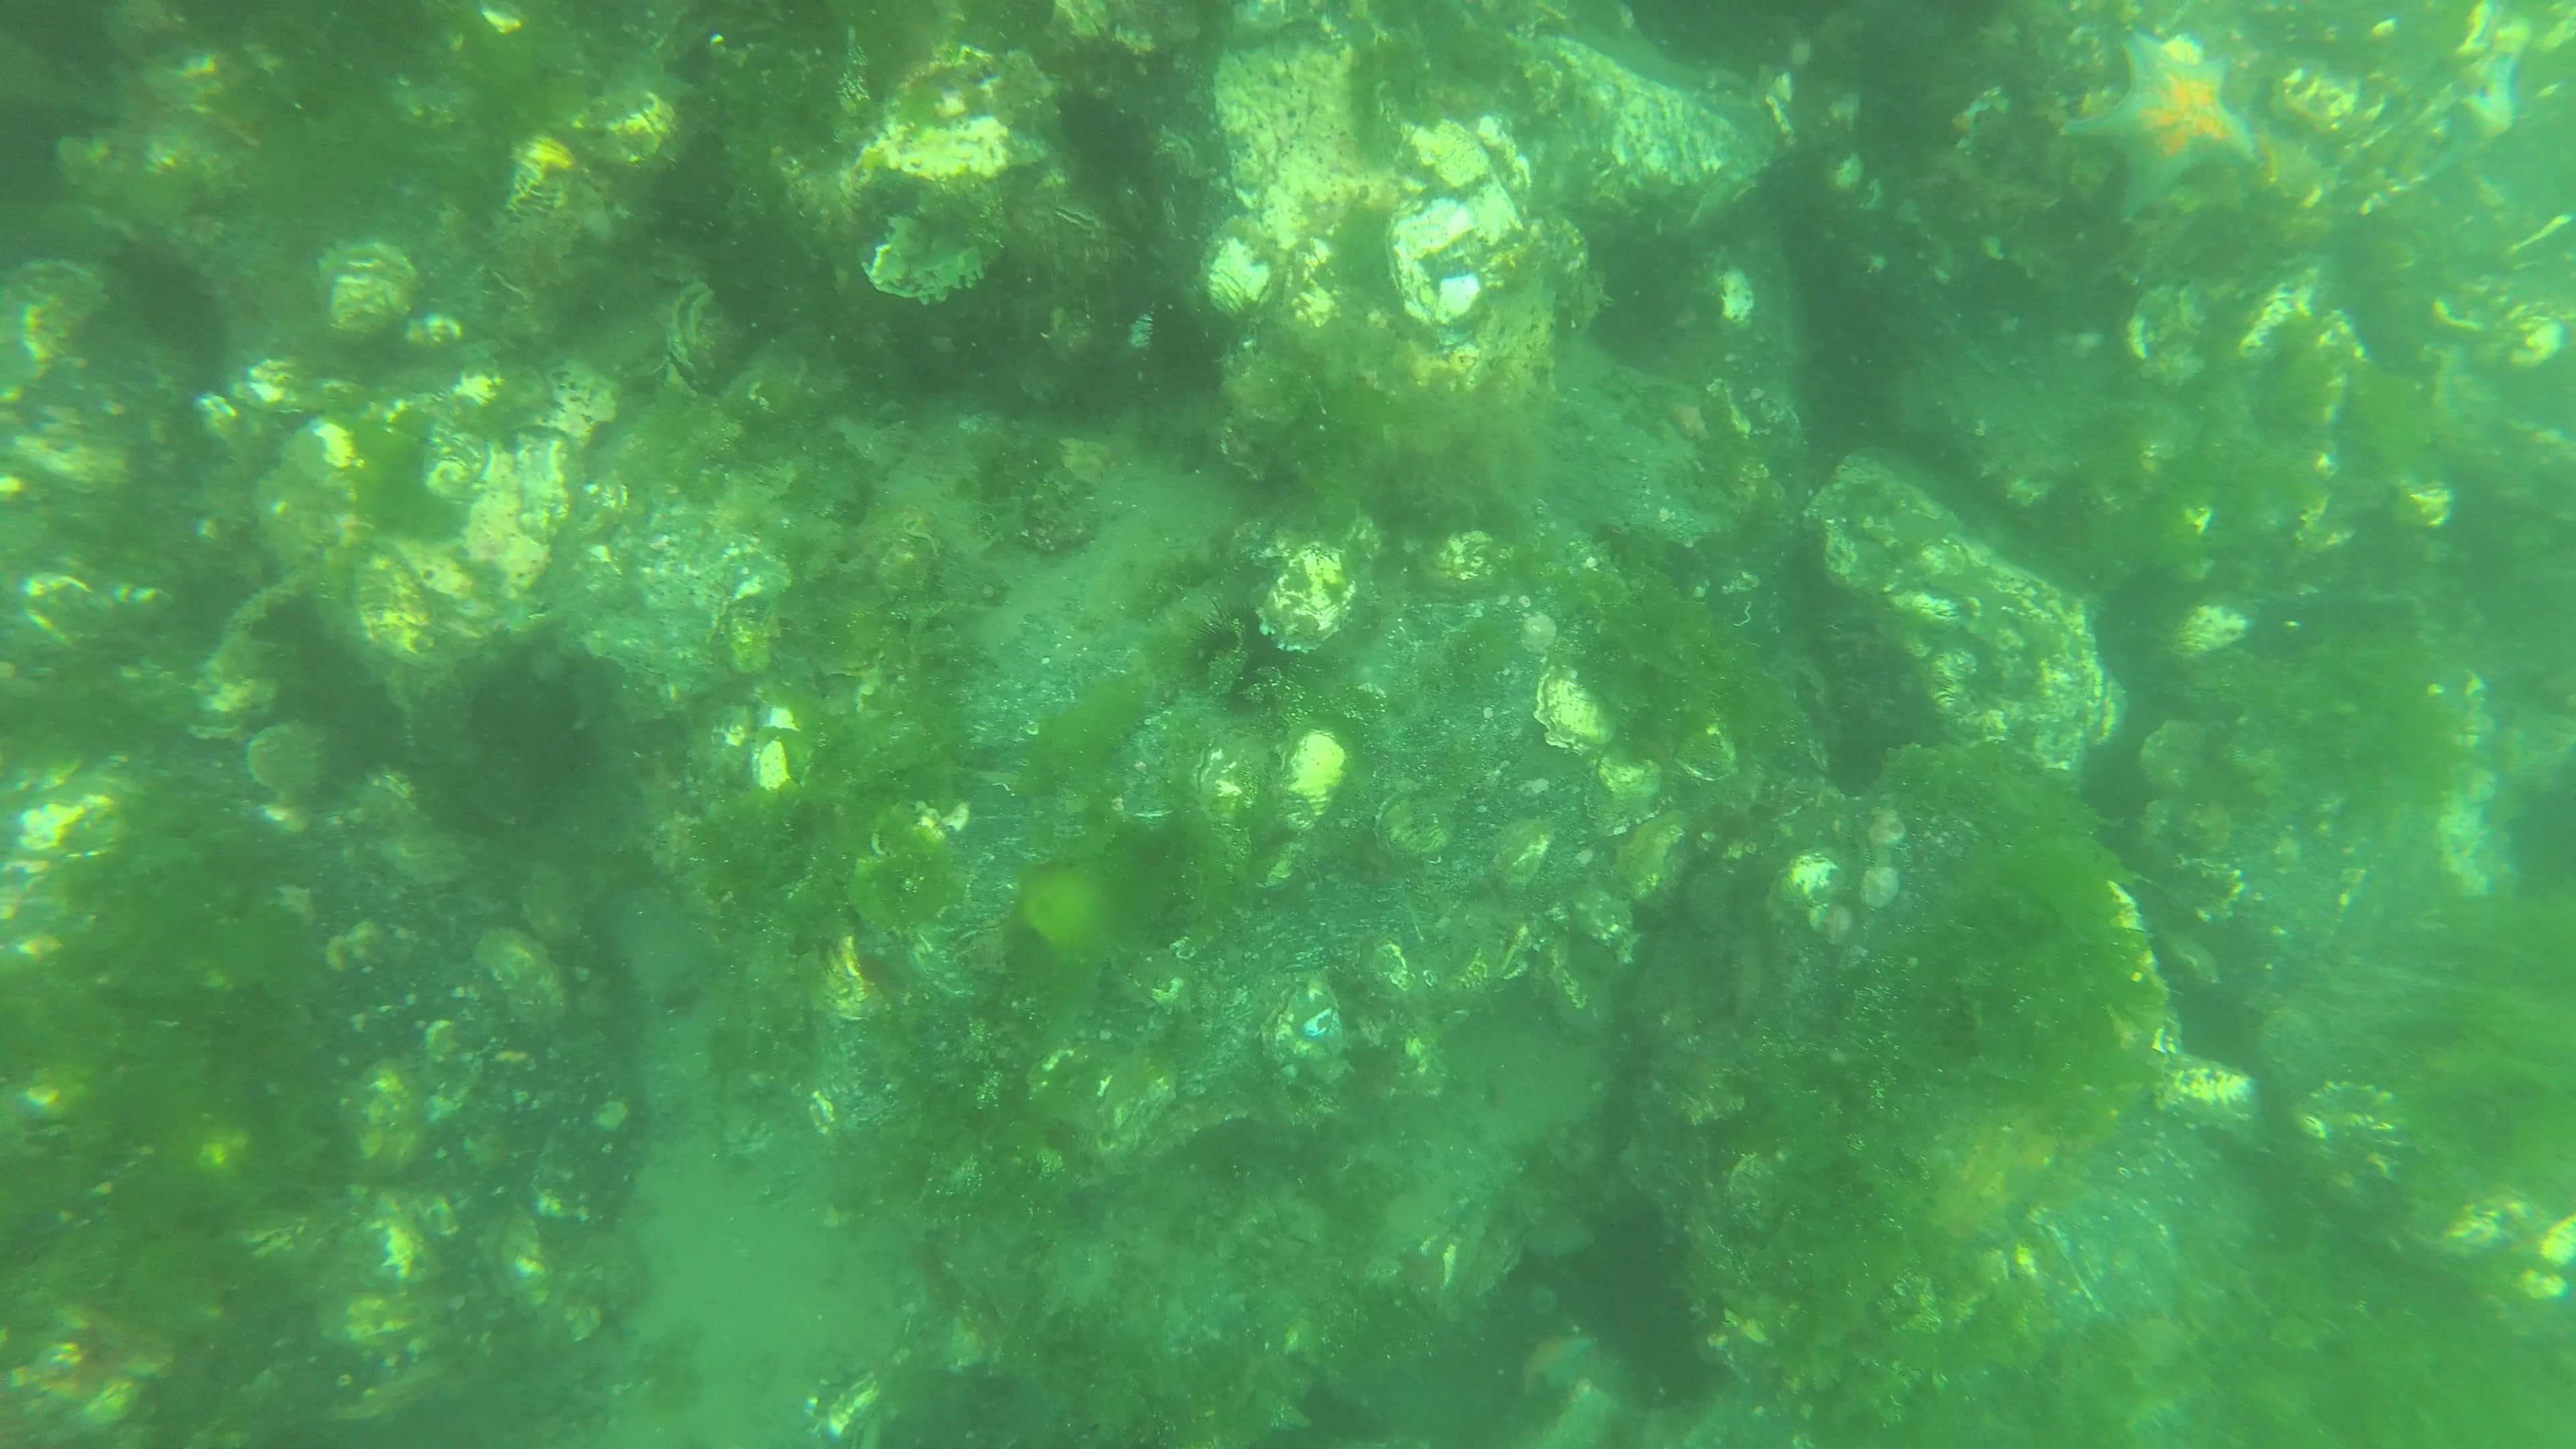echinus: (1184, 593, 1290, 709), (239, 718, 341, 803)
starfish: (2061, 32, 2261, 211), (2440, 55, 2534, 184), (1523, 1329, 1594, 1396), (1948, 97, 1985, 161)
